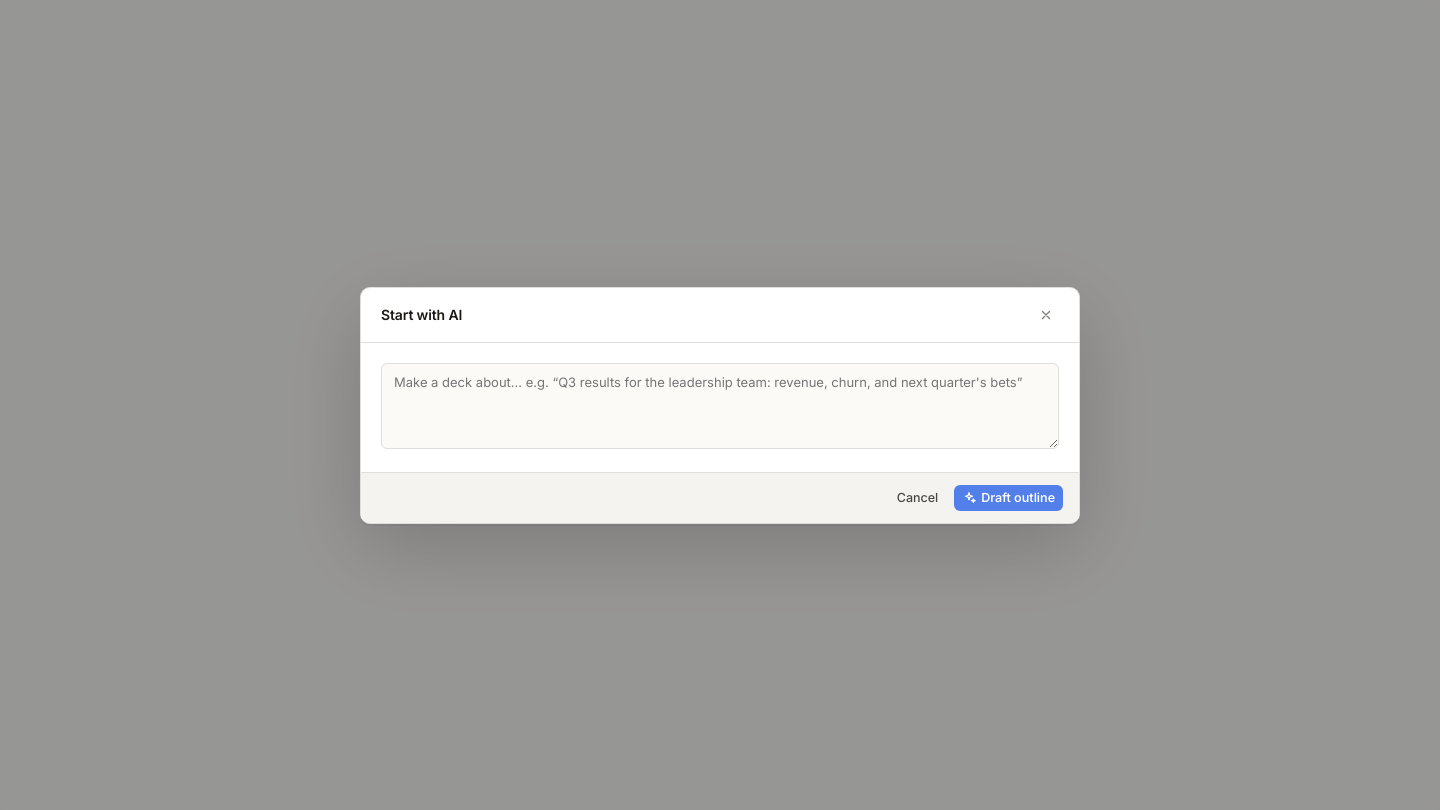
Test: AiDeckModal › reports an unusable outline in words
The width and height of the screenshot is (1440, 810).
Replace the text in the text box named "Deck topic" with "our Q3 results" at (720,406), box [381, 362, 1059, 448]
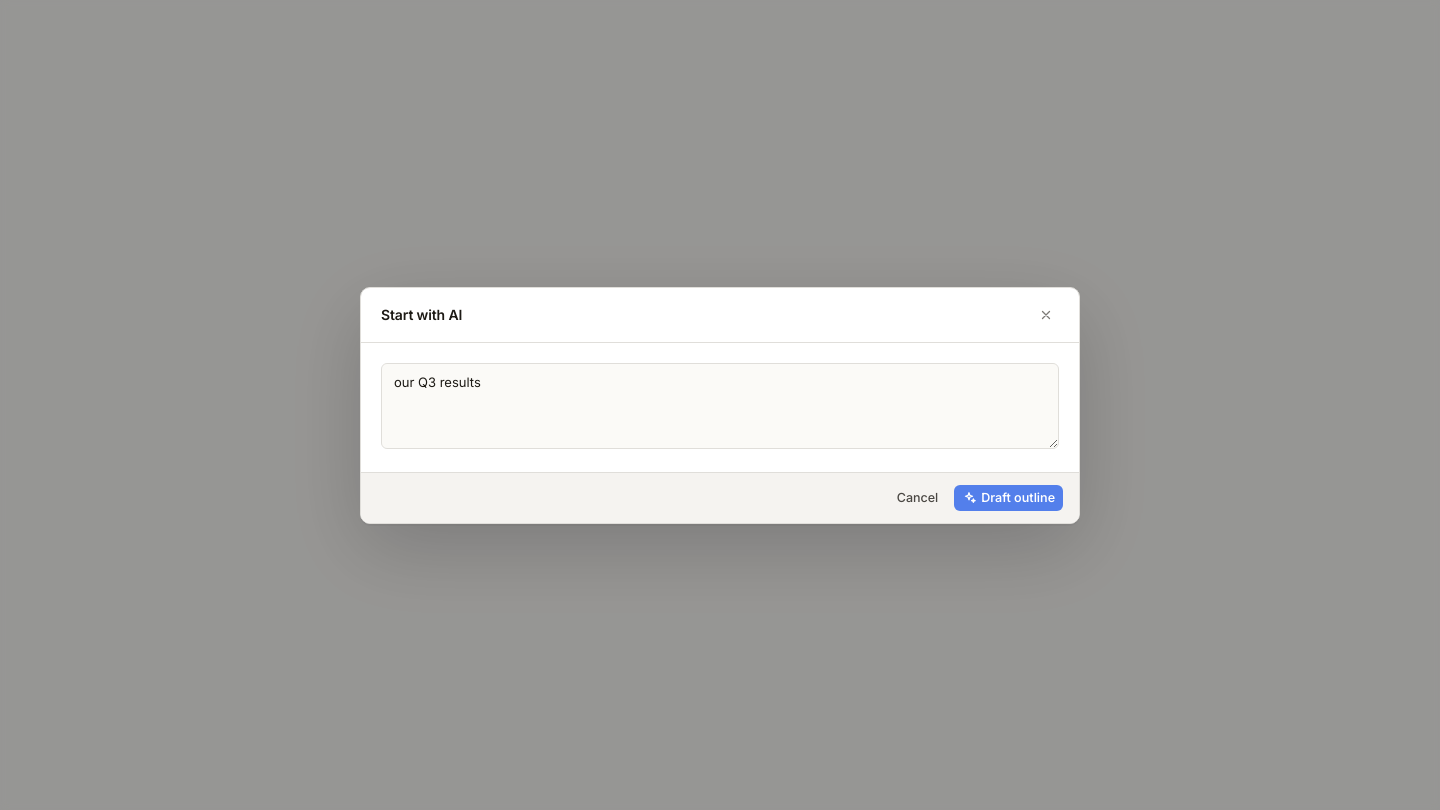
Click the button "Draft outline".
click(1009, 498)  # box [954, 484, 1063, 510]
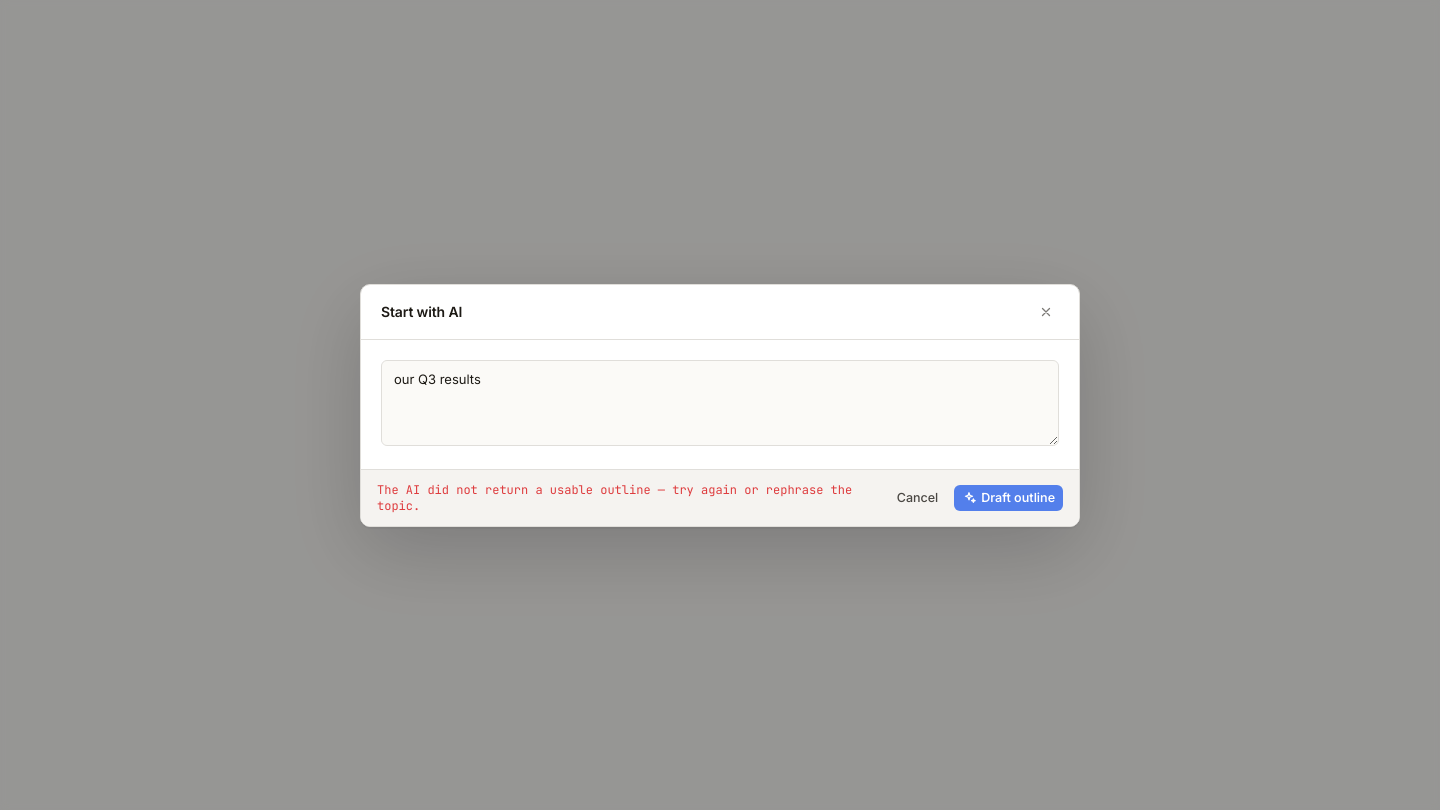
Expected: the message shows "usable outline", [377, 482, 852, 514]
